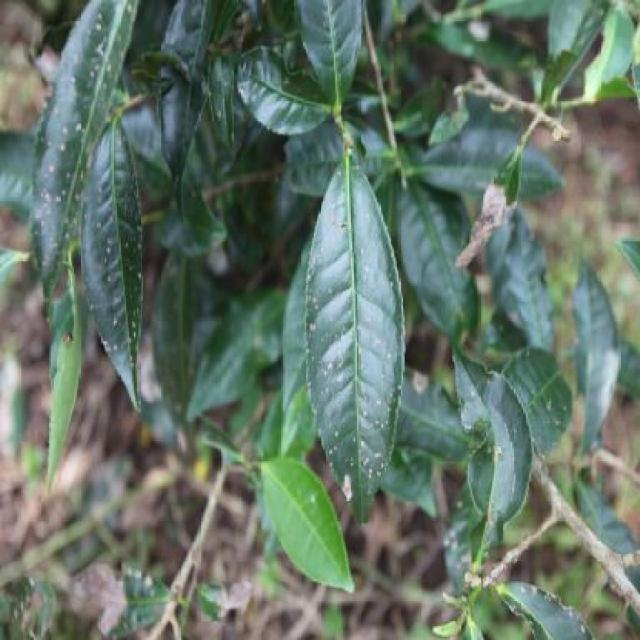Leaf rust of tea: (306, 135, 405, 551), (82, 110, 140, 404), (449, 348, 537, 528)
